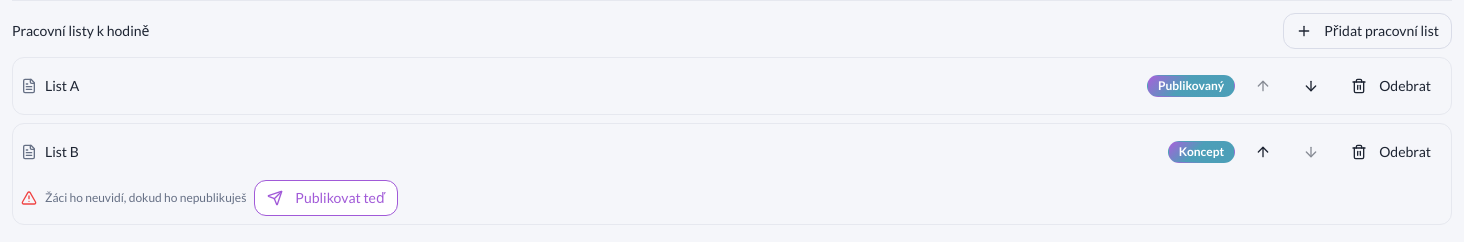
Test case: pracovní listy k hodině › koncept zobrazí upozornění, odebrání list smaže
Expected: the text "Žáci ho neuvidí, dokud ho nepublikuješ" is shown once, x1=45 y1=190 x2=246 y2=206
Click the button "Odebrat" next to "Koncept": click(1391, 152) x1=1339 y1=134 x2=1443 y2=170
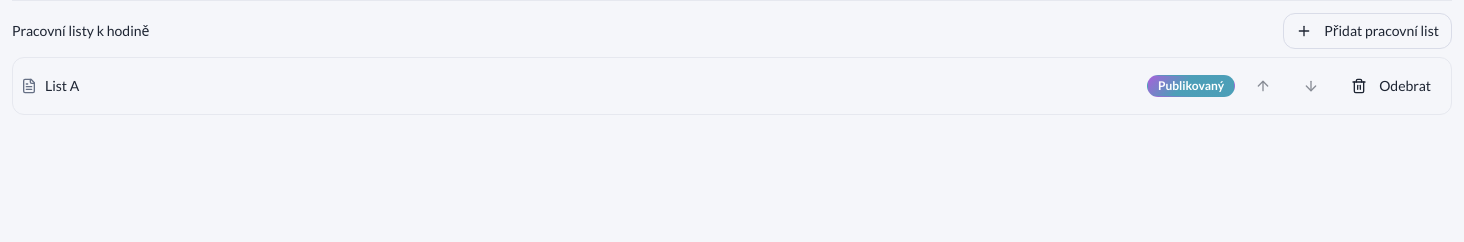
Result: the text "List B" is gone
Result: the number of list items with test id "plan-worksheet" is 1 at x1=12 y1=57 x2=1452 y2=115
